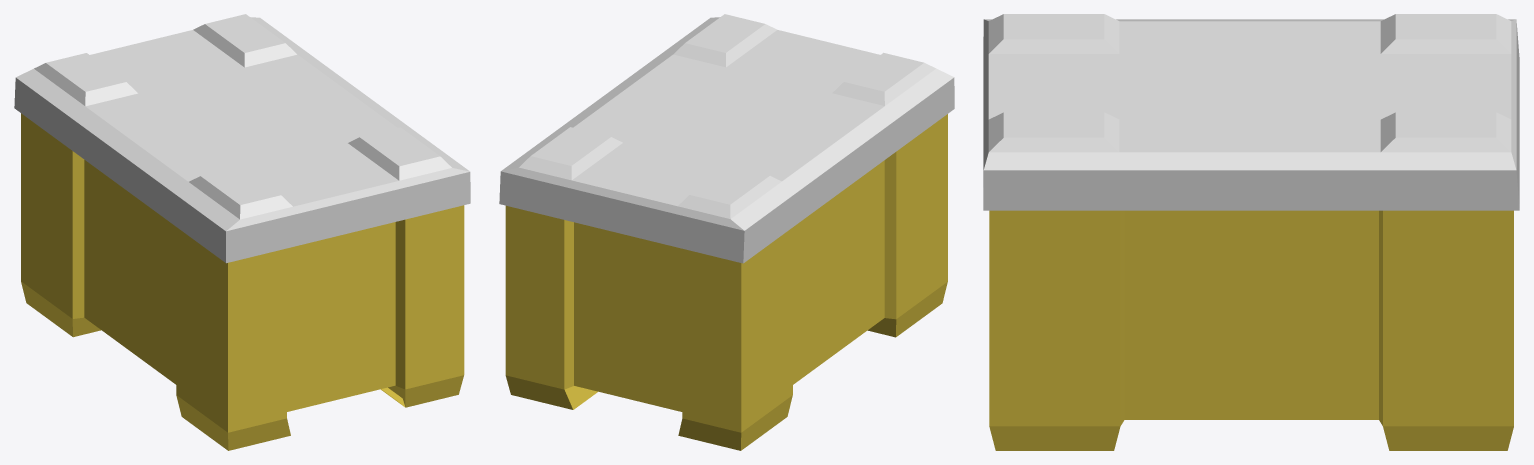
3 views of the same model, side by side, from view 1: azimuth 30°, elevation 25°; view 2: azimuth 150°, elevation 25°; view 3: azimuth 270°, elevation 25° (orthographic). The views are drawn at different scales.
Parts seen in each view (by area): view 1: LK; view 2: LK; view 3: LK.
Boxes of the visible parts, x1,y1,x2,y2 form: LK: (14,14,470,450); LK: (499,14,954,450); LK: (983,14,1519,450).
Size of the model in its own units: 0.8 by 0.75 by 1.2.
